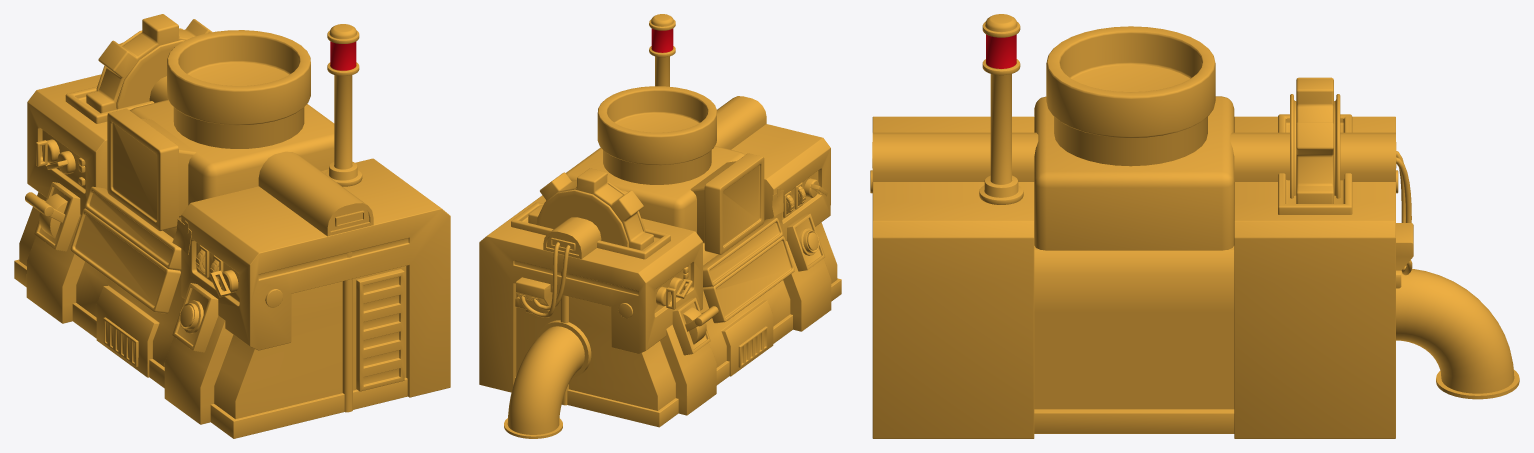
Rendered from assembler.fbx.
The picture shows the model from 3 angles, left to right: view 1: azimuth 30°, elevation 25°; view 2: azimuth 150°, elevation 25°; view 3: azimuth 270°, elevation 25°; orthographic projection. The views are drawn at different scales.
Visible parts, largest first — view 1: Cube.264, Cube.262, Cylinder.103, Cylinder.001, Cube.259, Cube.258; view 2: Cube.264, Cube.262, Cylinder.103, Cylinder.001, Cube.259, Cube.258; view 3: Cube.264, Cylinder.103, Cylinder.001.
Part boxes in pixels (x1=…): Cube.264: x1=14, y1=24, x2=450, y2=438; Cube.262: x1=70, y1=108, x2=195, y2=313; Cylinder.103: x1=167, y1=30, x2=310, y2=148; Cylinder.001: x1=86, y1=14, x2=212, y2=113; Cube.259: x1=25, y1=182, x2=80, y2=251; Cube.258: x1=172, y1=283, x2=218, y2=352; Cube.264: x1=479, y1=14, x2=841, y2=438; Cube.262: x1=690, y1=153, x2=794, y2=323; Cylinder.103: x1=597, y1=86, x2=716, y2=184; Cylinder.001: x1=528, y1=168, x2=653, y2=250; Cube.259: x1=672, y1=297, x2=718, y2=355; Cube.258: x1=787, y1=213, x2=825, y2=271; Cube.264: x1=870, y1=14, x2=1519, y2=438; Cylinder.103: x1=1046, y1=26, x2=1215, y2=166; Cylinder.001: x1=1296, y1=77, x2=1333, y2=203.
Bounding box in the file's own units: 4.16 × 8.44 × 5.6.
